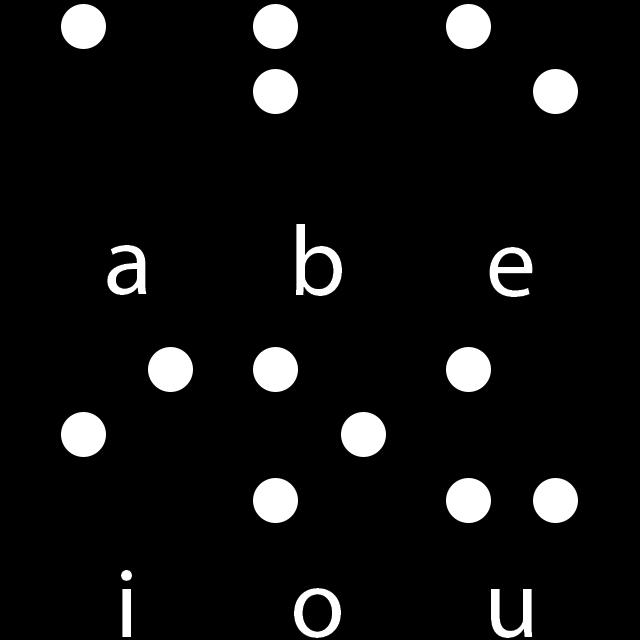A: (60, 0, 194, 220)
B: (251, 0, 392, 208)
E: (440, 1, 584, 208)
I: (59, 343, 198, 531)
O: (249, 341, 391, 528)
U: (440, 343, 583, 529)
